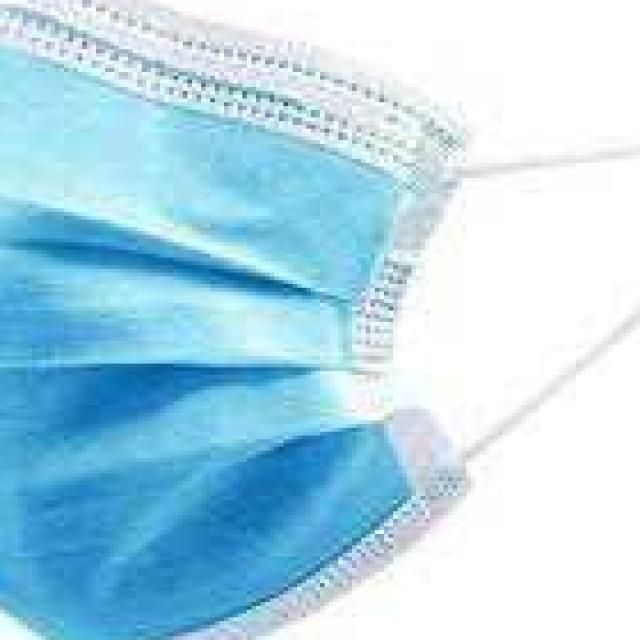organic: (27, 15, 581, 594)
